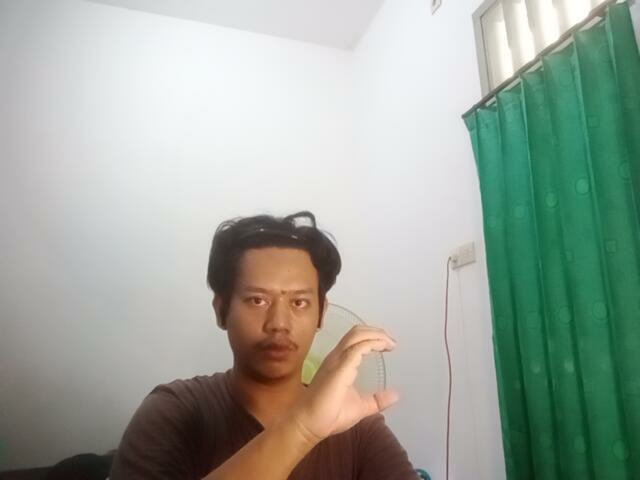C: (315, 320, 415, 429)
